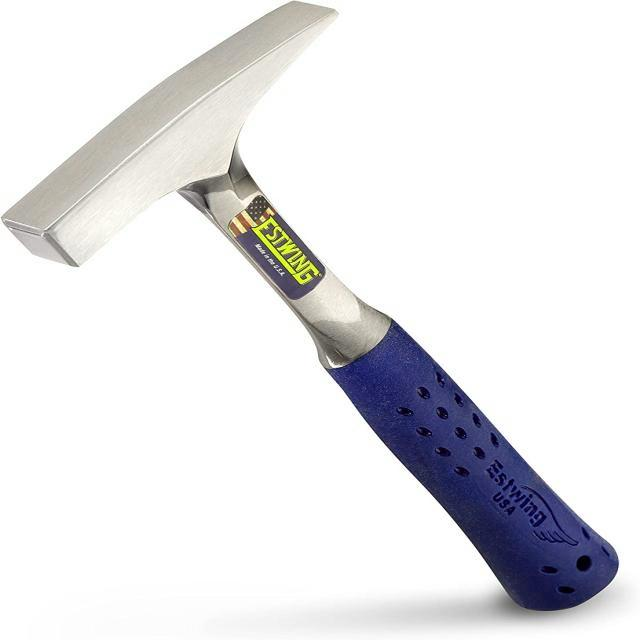hammer: (0, 0, 624, 614)
